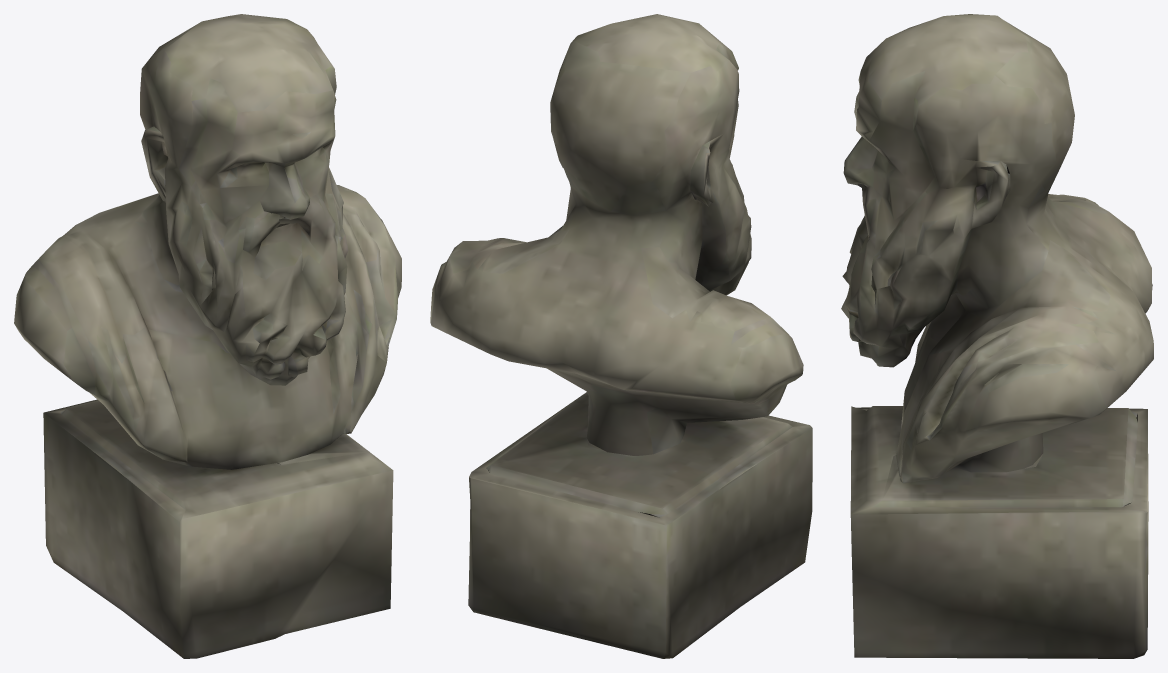
File: plain-limestone-bust-v001.glb
The picture shows the model from 3 angles, left to right: view 1: azimuth 30°, elevation 25°; view 2: azimuth 150°, elevation 25°; view 3: azimuth 270°, elevation 25°; orthographic projection. The views are drawn at different scales.
Visible parts, largest first — view 1: plain-limestone-bust; view 2: plain-limestone-bust; view 3: plain-limestone-bust.
Boxes of the visible parts, x1,y1,x2,y2 form: plain-limestone-bust: (14, 14, 401, 658); plain-limestone-bust: (430, 14, 812, 658); plain-limestone-bust: (841, 14, 1153, 658).
Size of the model in its own units: 0.5303 by 0.788 by 0.3805.
Materials: 1 (1 with a texture image).
